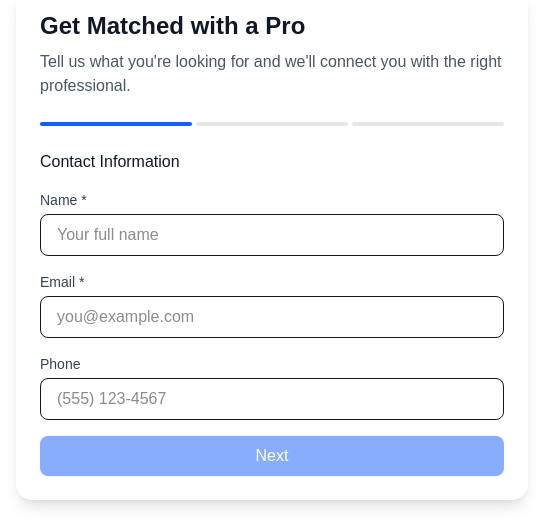
Test: GetMatchedForm › Step Navigation › navigates back to step 1 from step 2
The image size is (545, 526).
// Go to step 2
Type "John Doe" into the field with placeholder "Your full name" at (272, 235), box x1=40 y1=214 x2=504 y2=256
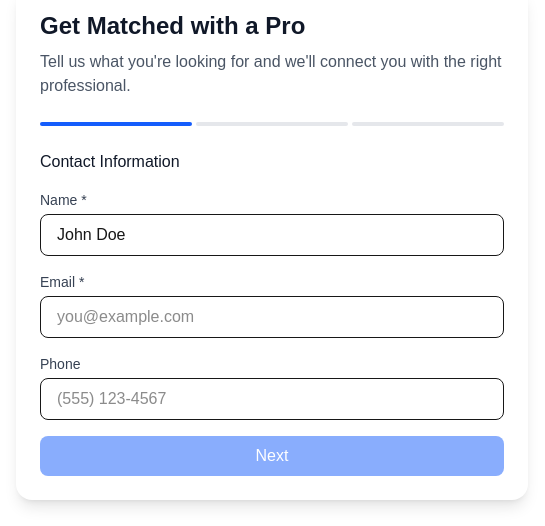
Type "john@example.com" into the field with placeholder "you@example.com" at (272, 317), box x1=40 y1=296 x2=504 y2=338
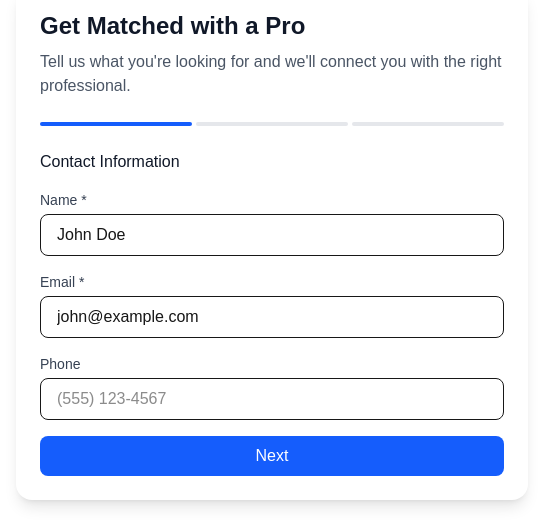
Click the button "Next" at (272, 456), box x1=40 y1=436 x2=504 y2=476
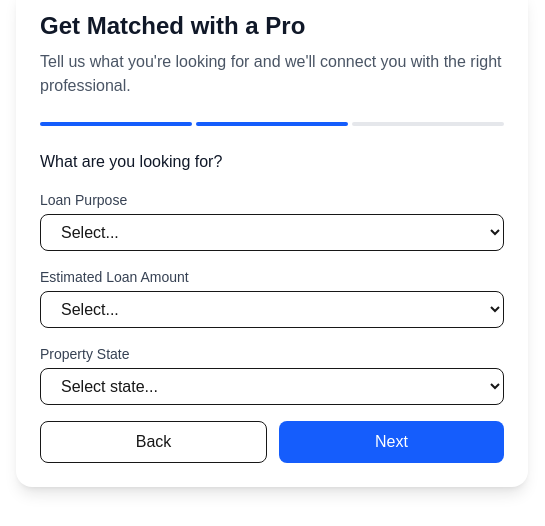
//  Go back
Click the button "Back" at (154, 442), box x1=40 y1=421 x2=267 y2=463
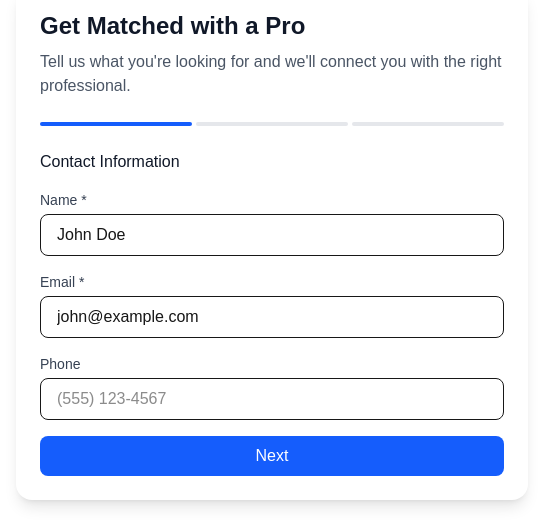
Expected: the heading "Contact Information" is shown, x1=40 y1=153 x2=180 y2=170
